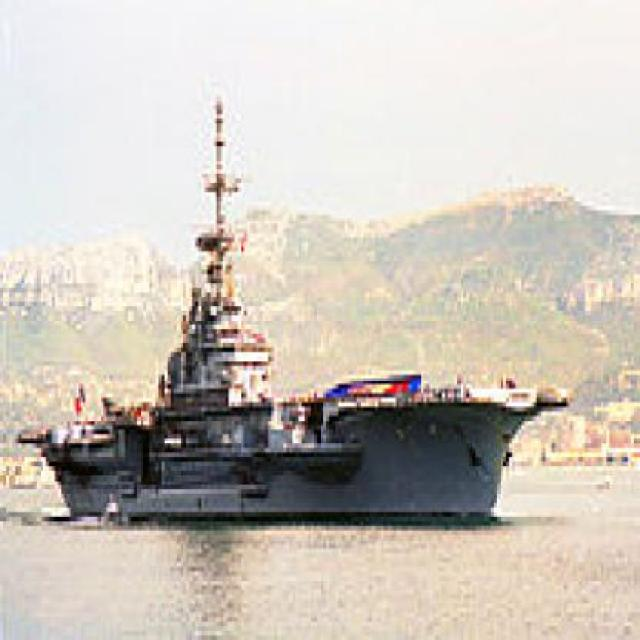warship2: (37, 79, 540, 526)
